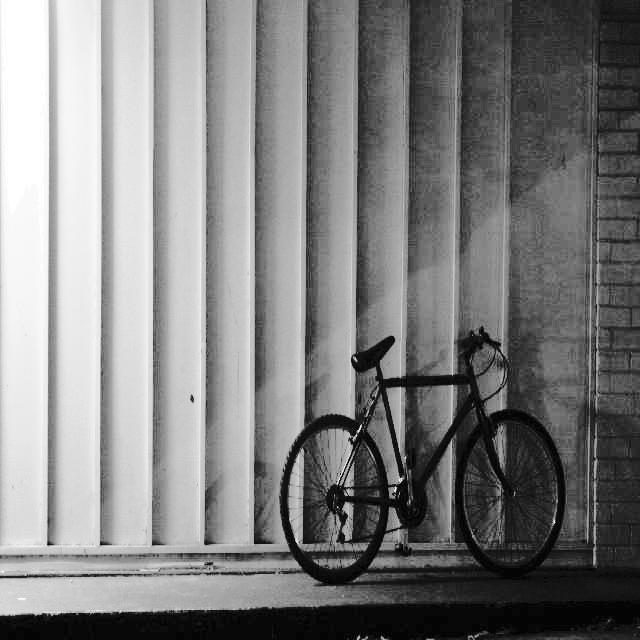Bicycle: (274, 325, 566, 584)
